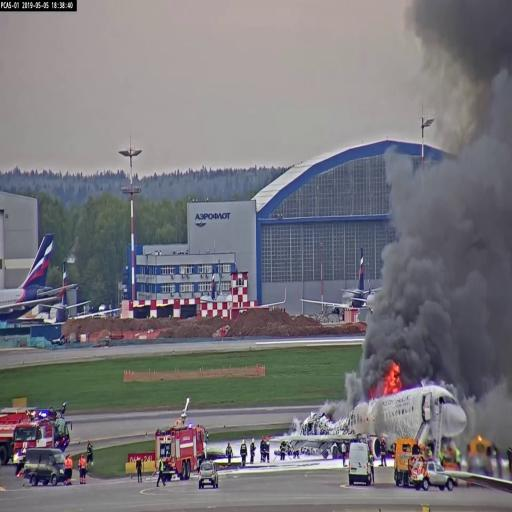fire: (383, 362, 403, 390)
smoke: (393, 159, 512, 361)
